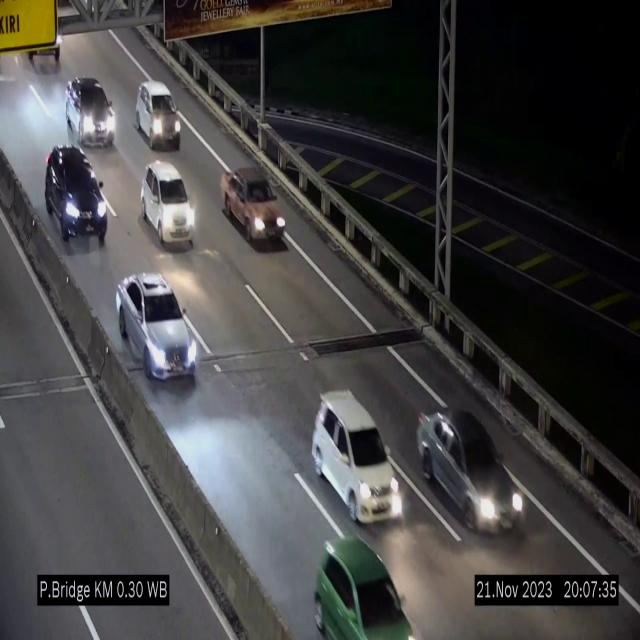Car: (416, 410, 524, 540), (310, 522, 420, 640), (312, 390, 402, 524), (116, 274, 198, 379), (43, 142, 111, 252), (222, 166, 286, 247), (142, 161, 196, 245), (64, 76, 117, 150), (136, 80, 180, 149)
